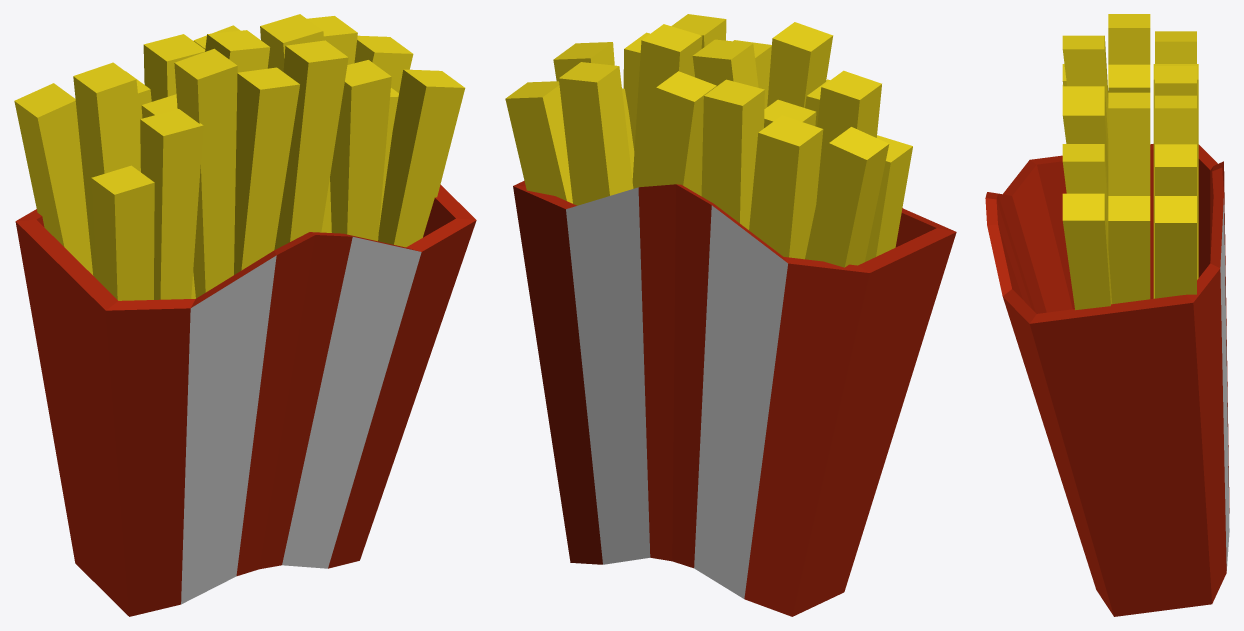
The model's file is Fries.fbx.
The picture shows the model from 3 angles, left to right: view 1: azimuth 30°, elevation 25°; view 2: azimuth 150°, elevation 25°; view 3: azimuth 270°, elevation 25°; orthographic projection. The views are drawn at different scales.
Visible parts, largest first — view 1: Fries; view 2: Fries; view 3: Fries.
Part boxes in pixels (<box>): Fries: <box>14,14,476,616</box>; Fries: <box>505,14,956,616</box>; Fries: <box>985,14,1229,616</box>.
Bounding box in the file's own units: 94.88 × 133 × 58.57.
Materials: 1 (1 with a texture image).
